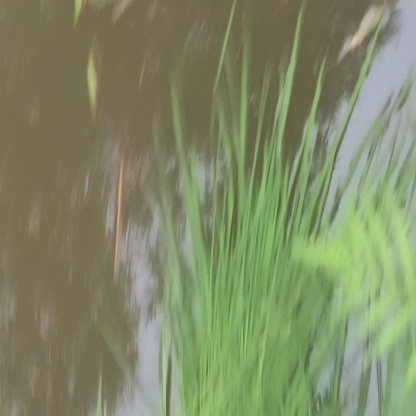grass: (160, 159, 323, 407)
